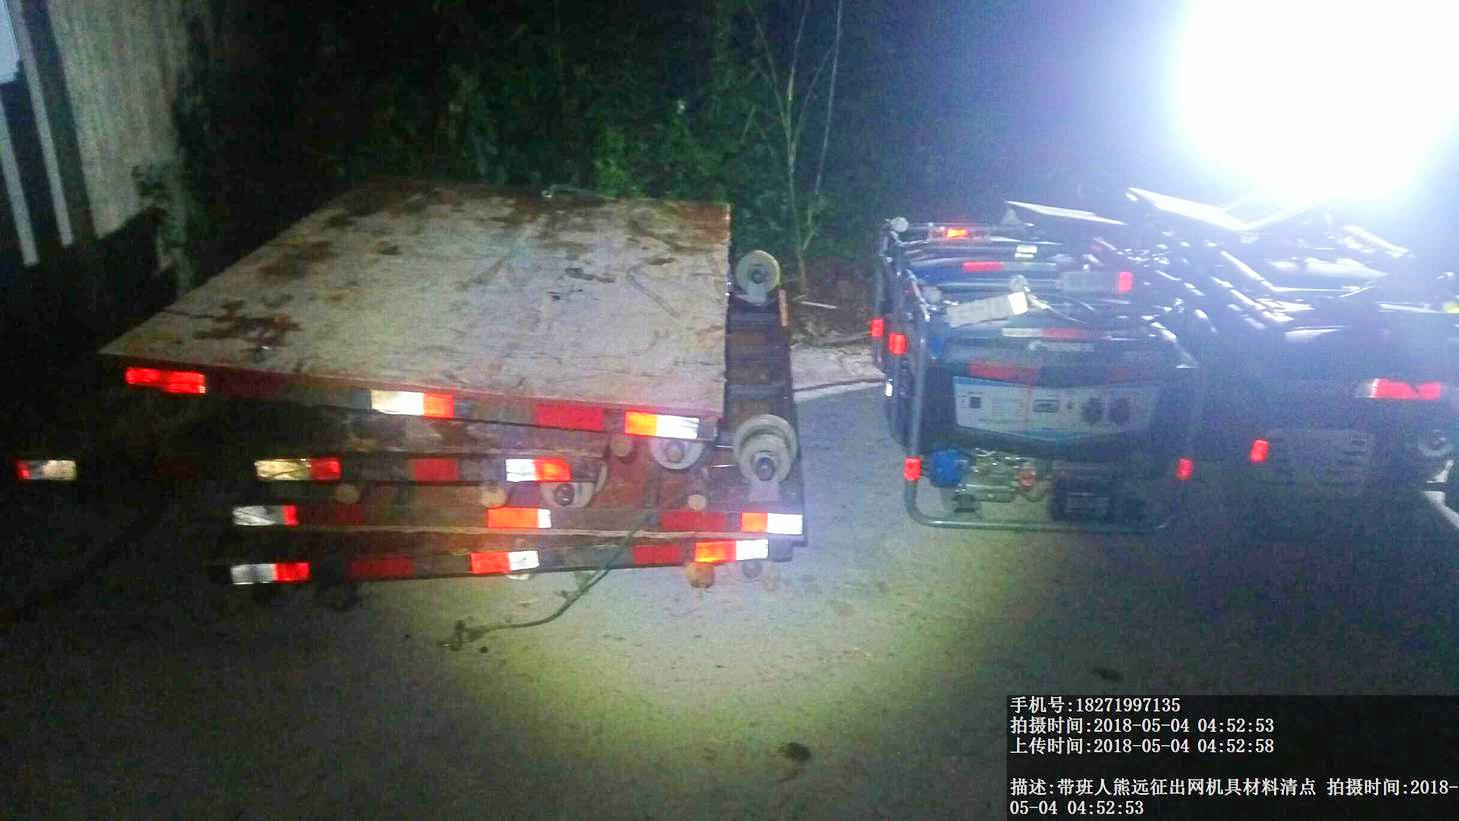DJ: (864, 209, 1211, 549), (1192, 261, 1459, 531)
